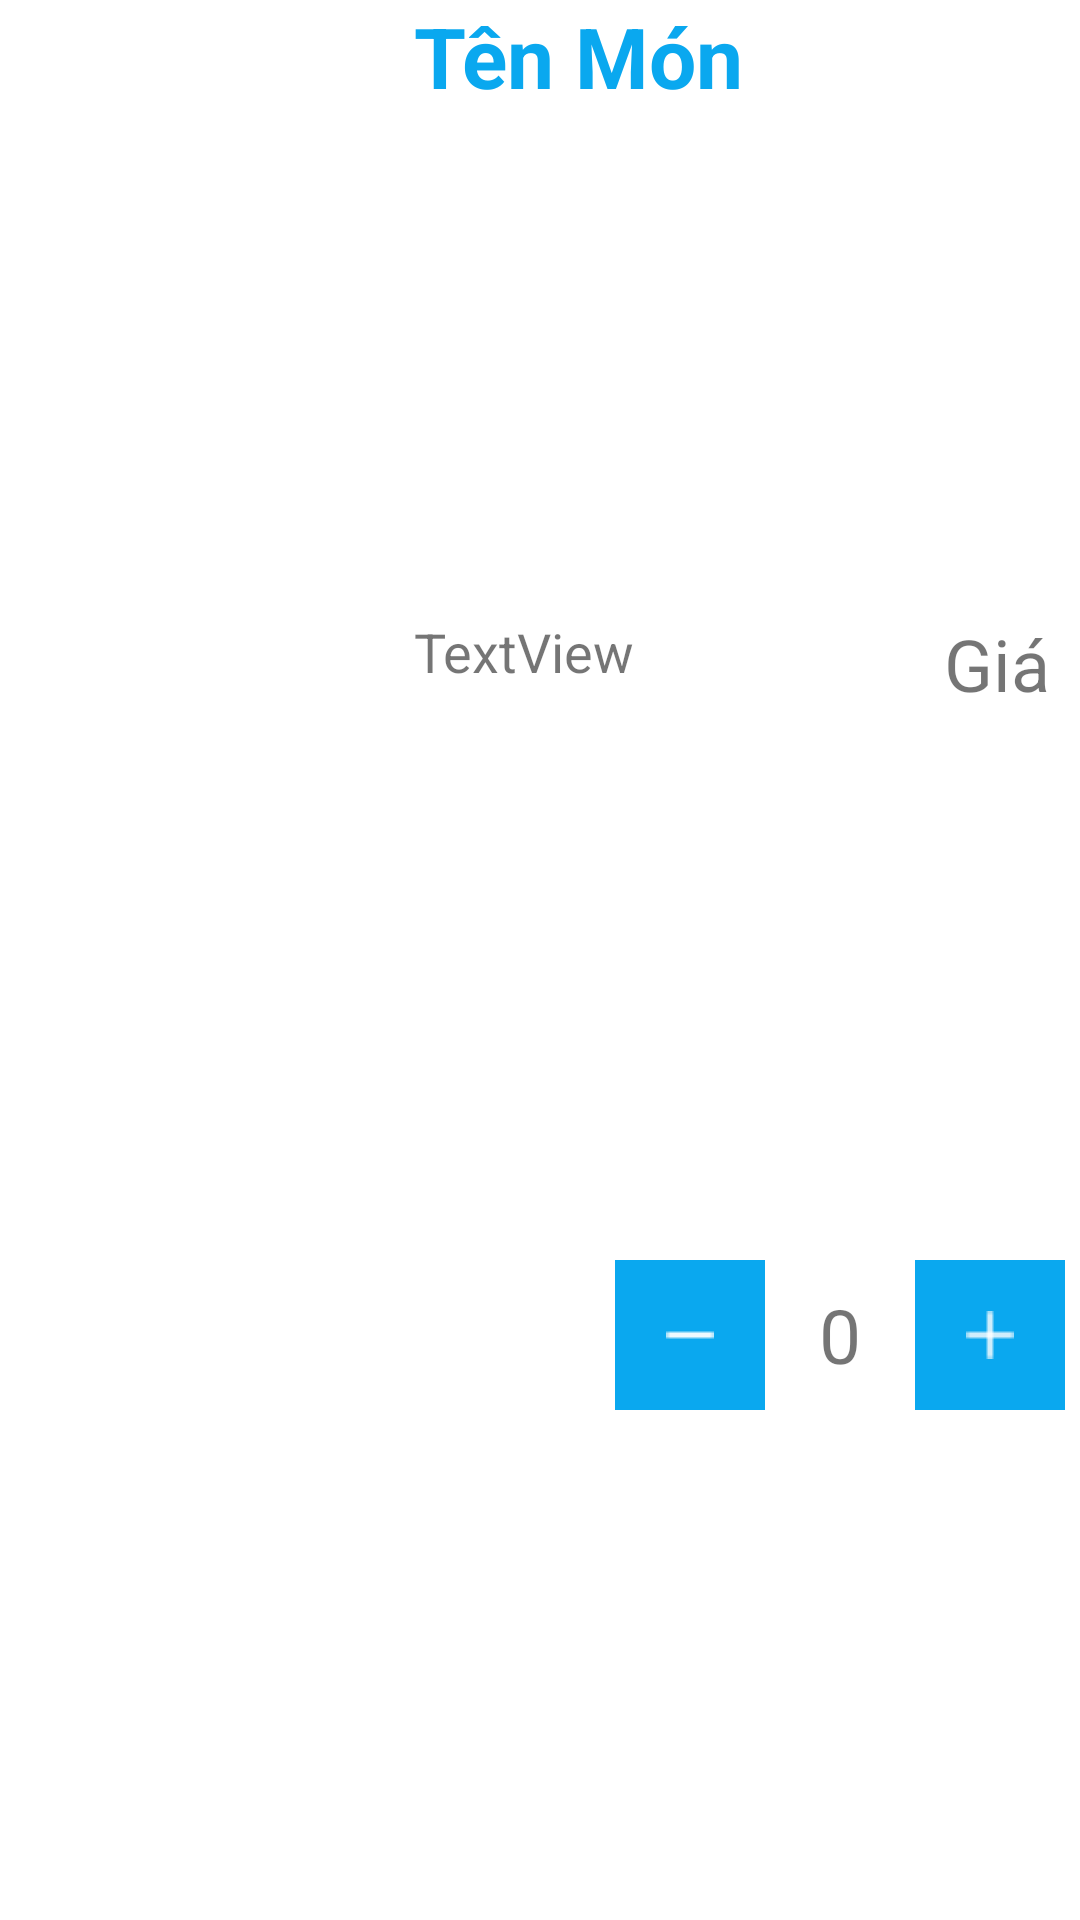

Icons on this 1080x1920 Android screen, each with its box as (x1=x1, y1=y1, x2=x2, y2=y2):
minus: (x1=615, y1=1260, x2=765, y2=1410)
plus: (x1=915, y1=1260, x2=1065, y2=1410)
